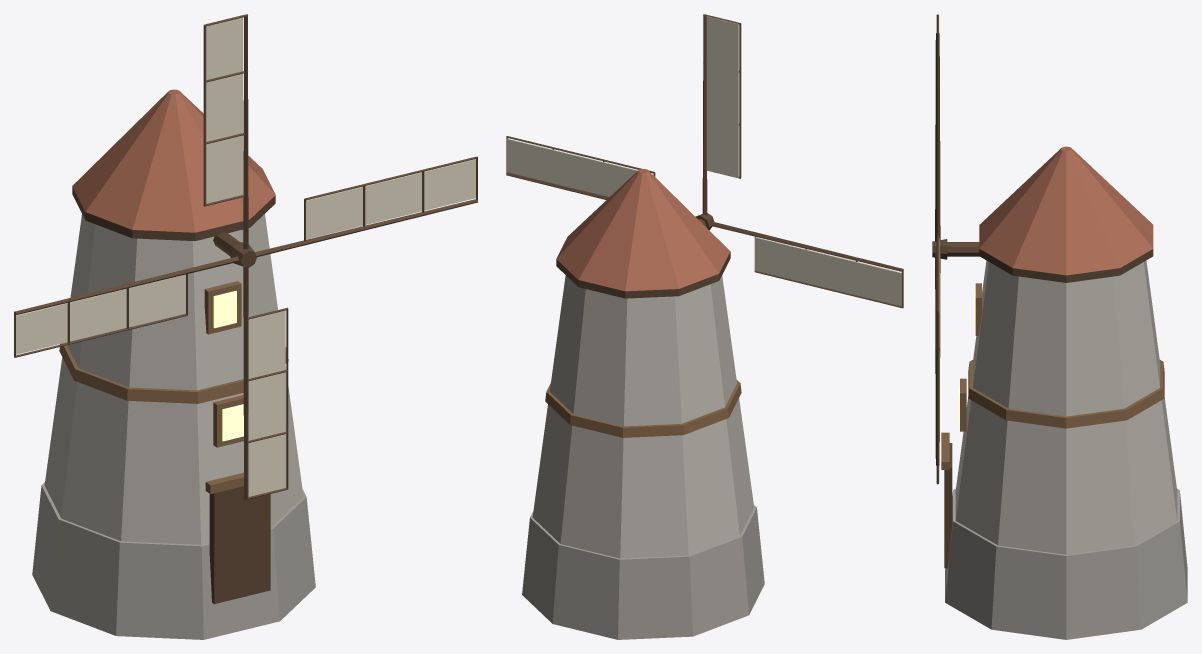
File: molino.glb
3 views of the same model, side by side, from view 1: azimuth 30°, elevation 25°; view 2: azimuth 150°, elevation 25°; view 3: azimuth 270°, elevation 25° (orthographic). The views are drawn at different scales.
Parts seen in each view (by area): view 1: FG_Molino, FG_Molino_Aspas; view 2: FG_Molino, FG_Molino_Aspas; view 3: FG_Molino, FG_Molino_Aspas.
Part boxes in pixels (x1,y1,x2,y2): FG_Molino: (32,89,315,639); FG_Molino_Aspas: (14,14,477,500); FG_Molino: (522,169,764,639); FG_Molino_Aspas: (506,14,903,308); FG_Molino: (941,146,1187,639); FG_Molino_Aspas: (932,14,947,484).
Bounding box in the file's own units: 8.64 × 11.02 × 4.61.
